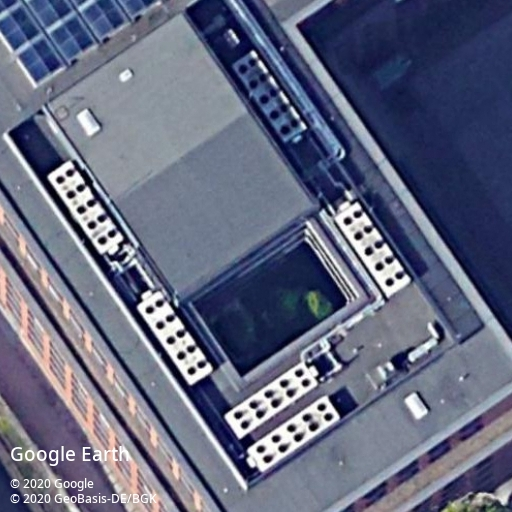Chiller: (46, 159, 125, 257), (224, 360, 320, 440), (245, 394, 341, 474), (334, 201, 411, 298), (136, 289, 212, 385), (232, 50, 307, 144)
